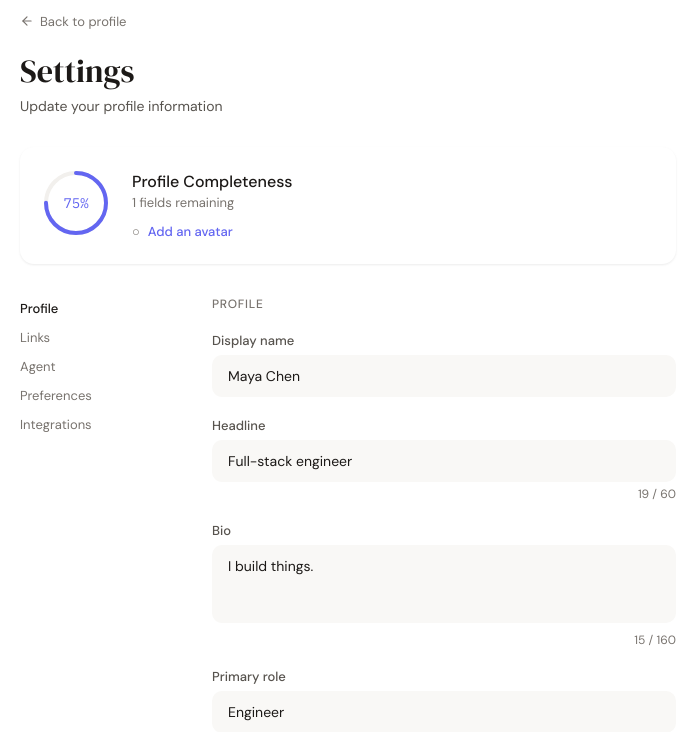
it: SettingsPage › switches to Links section
This screenshot has width=693, height=732.
Click the button "Links" at (100, 337), box [20,325,180,350]
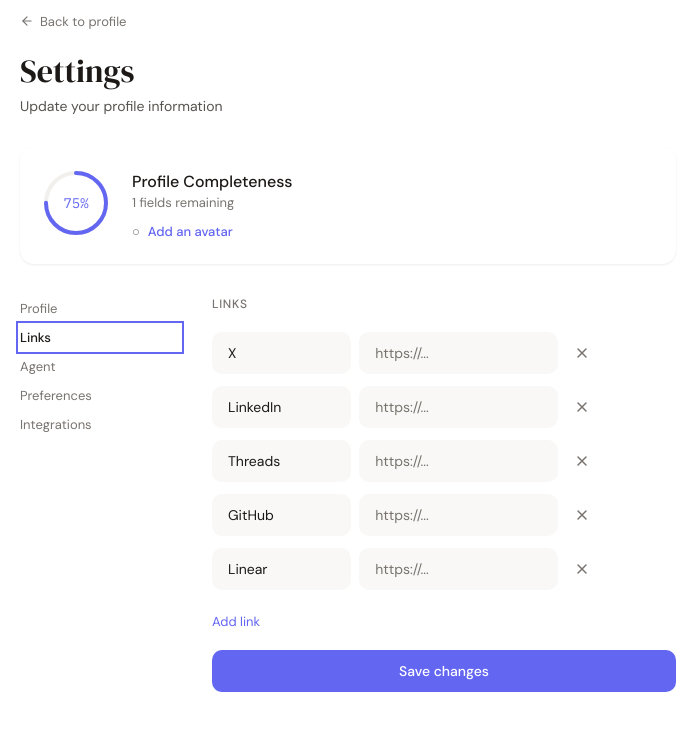
Check: the heading "Links" is shown, box [212,296,248,312]
Check: the field named "Link 1 label" is shown, box [212,332,351,374]
Check: the label labelled "Display name" is gone
